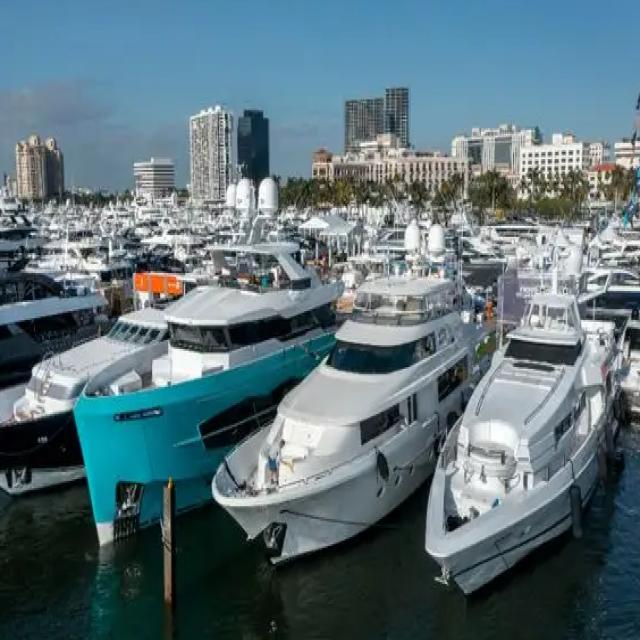houseboat: (64, 258, 356, 576), (224, 257, 458, 584), (429, 270, 625, 606)
